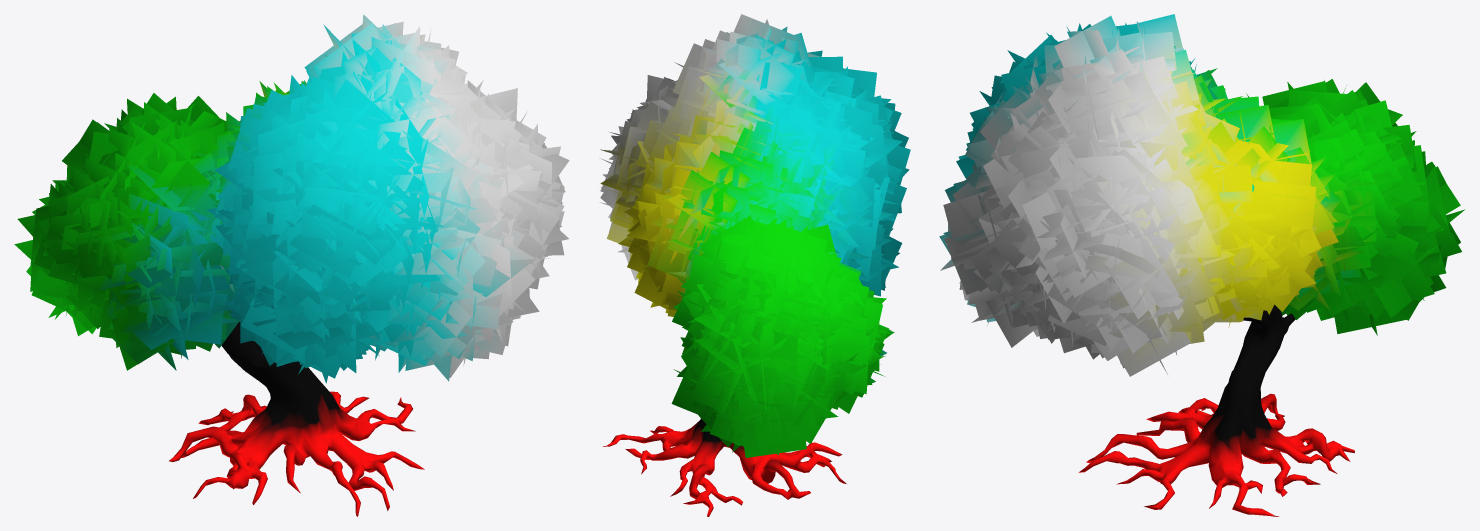
Rendered from OakTree04.fbx.
The picture shows the model from 3 angles, left to right: view 1: azimuth 30°, elevation 25°; view 2: azimuth 150°, elevation 25°; view 3: azimuth 270°, elevation 25°; orthographic projection. The views are drawn at different scales.
Parts seen in each view (by area): view 1: OakTreeLeaves04, OakTreeTrunk04; view 2: OakTreeLeaves04, OakTreeTrunk04; view 3: OakTreeLeaves04, OakTreeTrunk04.
Part boxes in pixels (<box>): OakTreeLeaves04: <box>14,14,569,383</box>; OakTreeTrunk04: <box>169,322,424,516</box>; OakTreeLeaves04: <box>599,14,910,457</box>; OakTreeTrunk04: <box>603,419,846,516</box>; OakTreeLeaves04: <box>939,14,1465,376</box>; OakTreeTrunk04: <box>1078,304,1354,516</box>.
Size of the model in its own units: 1099 by 1175 by 1202.
